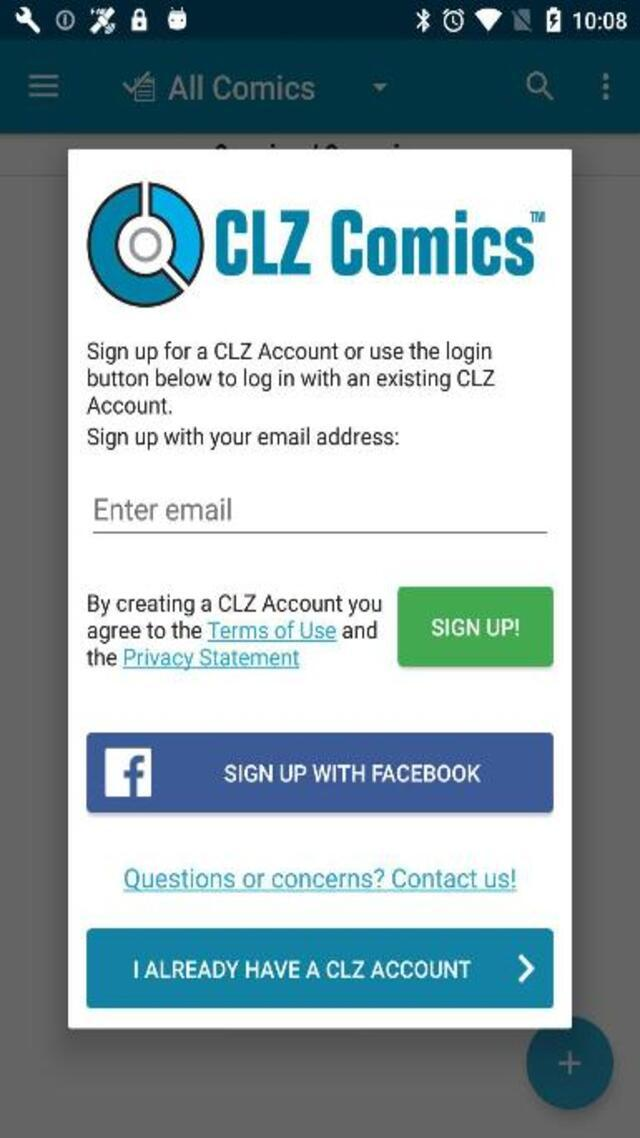Icon: (527, 1018, 613, 1110), (104, 748, 153, 796), (122, 72, 154, 102), (526, 70, 554, 100), (28, 74, 58, 97), (602, 73, 608, 101), (373, 82, 388, 92)
Image: (89, 182, 204, 308)
Text: (216, 209, 545, 275), (120, 864, 515, 894), (83, 341, 494, 367), (84, 367, 496, 392), (127, 955, 479, 984), (84, 618, 383, 644), (85, 592, 386, 616), (218, 759, 483, 786), (88, 427, 401, 448), (84, 644, 305, 673), (168, 74, 314, 100), (95, 497, 231, 520), (426, 616, 524, 642), (86, 393, 175, 418)
TextButton: (86, 928, 552, 1007), (86, 732, 552, 810), (398, 586, 553, 666)
